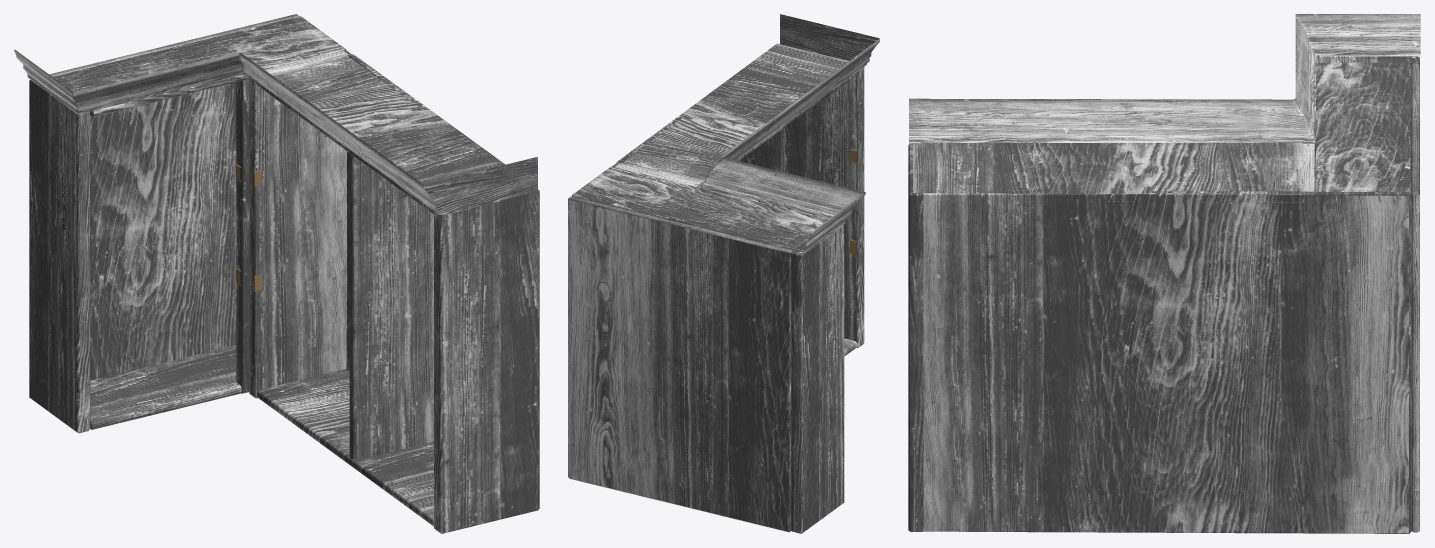
Rendered from SM_KitchenSet_B1_CornerEnd.fbx.
The picture shows the model from 3 angles, left to right: view 1: azimuth 30°, elevation 25°; view 2: azimuth 150°, elevation 25°; view 3: azimuth 270°, elevation 25°; orthographic projection. The views are drawn at different scales.
Visible parts, largest first — view 1: SM_KitchenSet_B1_CornerEnd; view 2: SM_KitchenSet_B1_CornerEnd; view 3: SM_KitchenSet_B1_CornerEnd.
Boxes of the visible parts, bbox=[...] form: SM_KitchenSet_B1_CornerEnd: bbox=[14, 14, 539, 533]; SM_KitchenSet_B1_CornerEnd: bbox=[568, 14, 879, 533]; SM_KitchenSet_B1_CornerEnd: bbox=[908, 14, 1420, 533].
Bounding box in the file's own units: 81.03 × 120 × 97.39.
2 materials, 2 textured.
